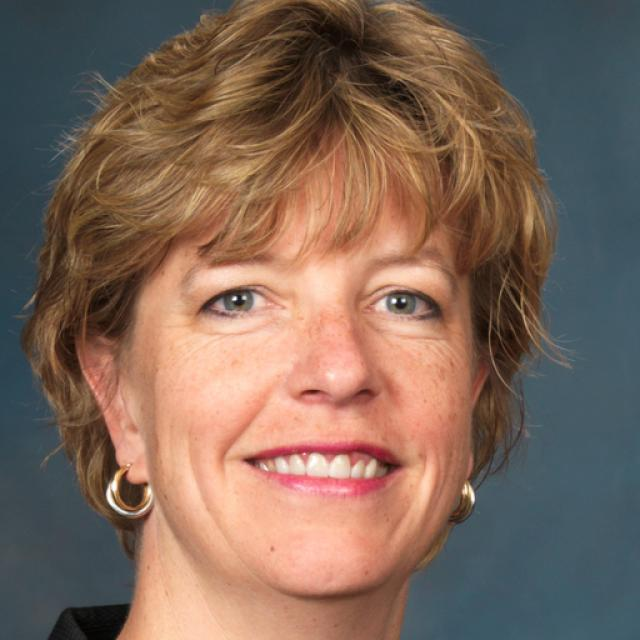Pigmentation: (301, 305, 377, 386)
